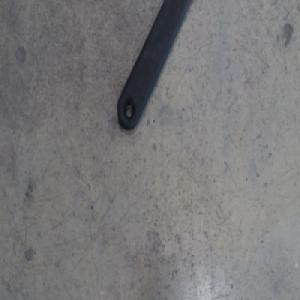AdjustableWrench: (116, 0, 188, 130)
